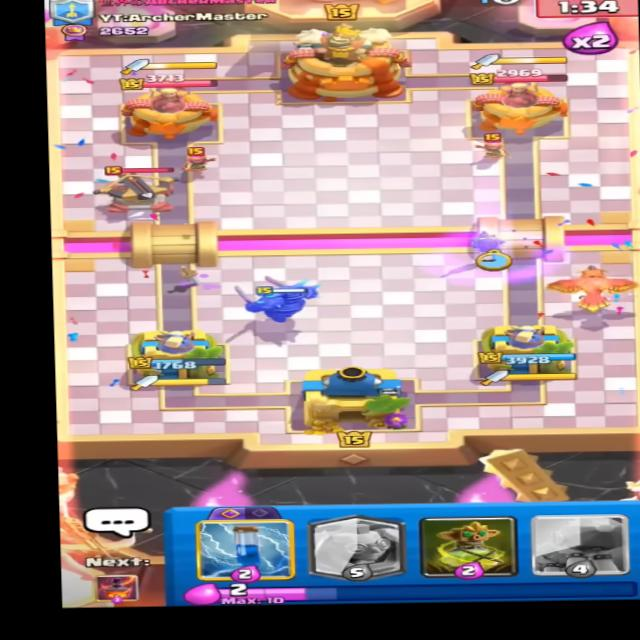archer: (181, 146, 217, 174), (475, 134, 511, 161)
x-bow: (92, 163, 184, 215)
